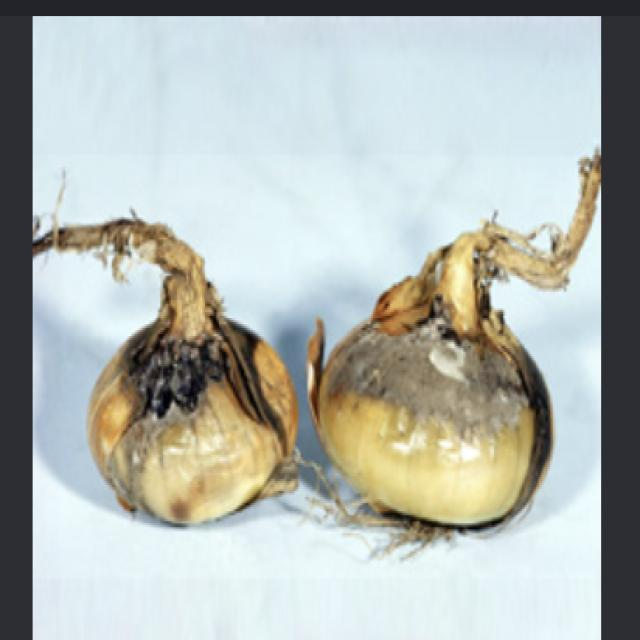rotten: (50, 76, 314, 604)
